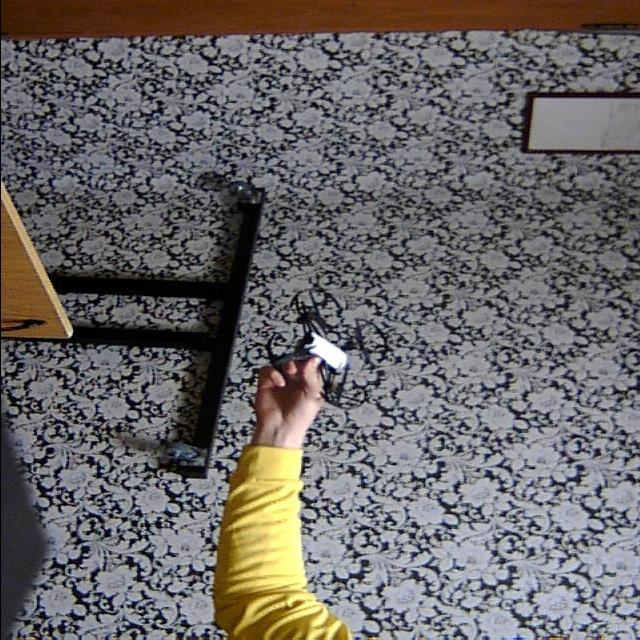drone: (256, 286, 396, 412)
